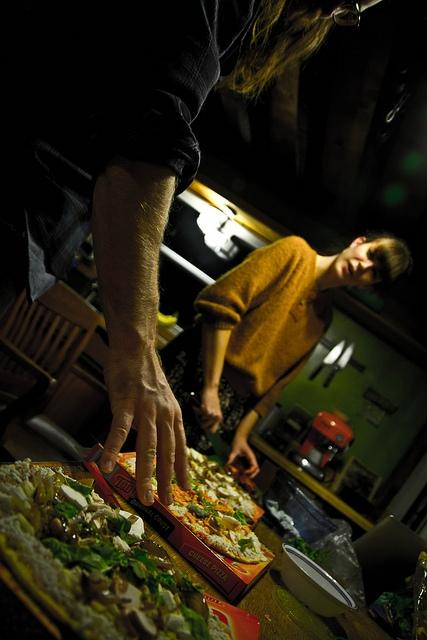banana: (157, 312, 177, 327)
lettuce: (92, 536, 130, 566), (288, 538, 322, 562), (108, 508, 131, 540), (54, 501, 83, 519), (188, 502, 209, 518), (157, 572, 176, 587), (233, 510, 248, 526)
